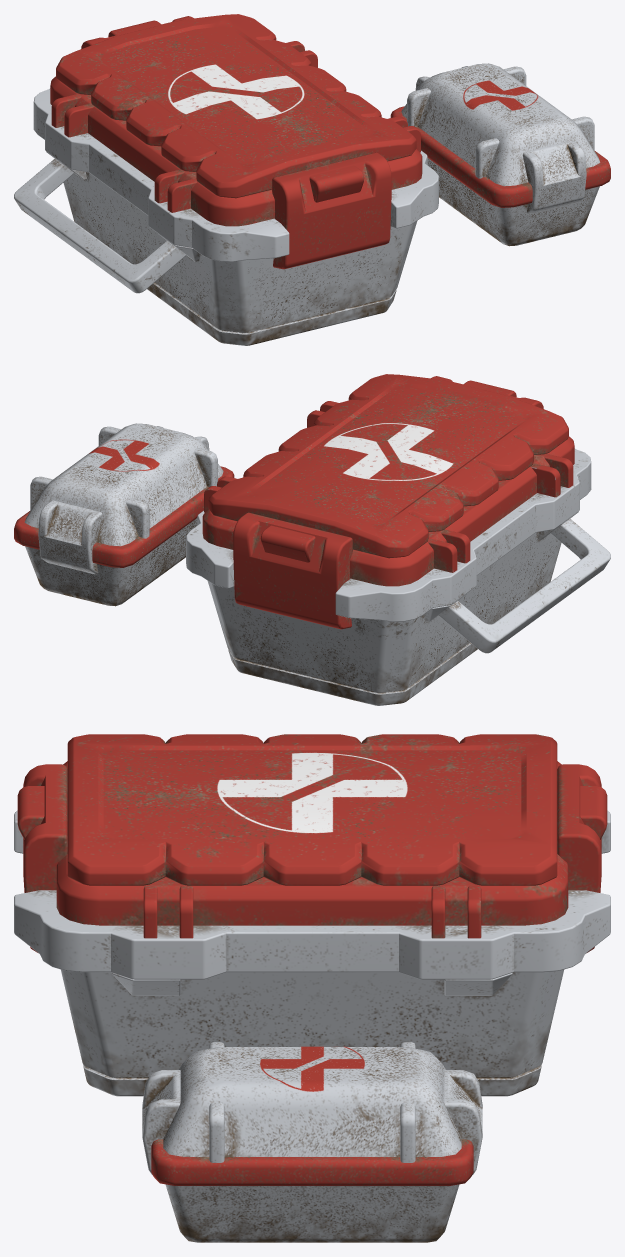
3 views of the same model, one above another, from view 1: azimuth 30°, elevation 25°; view 2: azimuth 150°, elevation 25°; view 3: azimuth 270°, elevation 25° (orthographic). The views are drawn at different scales.
Parts seen in each view (by area): view 1: Lid_Med_Kit, Base_Med_Kit, Main_Syringe, Decal_Med_Kit, Decal_Syringe; view 2: Lid_Med_Kit, Base_Med_Kit, Main_Syringe, Decal_Med_Kit, Decal_Syringe; view 3: Lid_Med_Kit, Base_Med_Kit, Main_Syringe, Decal_Med_Kit, Decal_Syringe.
Part boxes in pixels (x1=…): Lid_Med_Kit: x1=50, y1=14, x2=422, y2=269; Base_Med_Kit: x1=14, y1=88, x2=438, y2=345; Main_Syringe: x1=390, y1=63, x2=610, y2=246; Decal_Med_Kit: x1=168, y1=64, x2=304, y2=119; Decal_Syringe: x1=463, y1=80, x2=538, y2=110; Lid_Med_Kit: x1=202, y1=374, x2=574, y2=629; Base_Med_Kit: x1=186, y1=448, x2=610, y2=705; Main_Syringe: x1=14, y1=423, x2=234, y2=606; Decal_Med_Kit: x1=324, y1=423, x2=453, y2=480; Decal_Syringe: x1=89, y1=439, x2=159, y2=471; Lid_Med_Kit: x1=17, y1=734, x2=607, y2=952; Base_Med_Kit: x1=14, y1=810, x2=610, y2=1096; Main_Syringe: x1=142, y1=1042, x2=482, y2=1242; Decal_Med_Kit: x1=217, y1=752, x2=407, y2=833; Decal_Syringe: x1=260, y1=1046, x2=364, y2=1091.
Size of the model in its own units: 23.1 by 8.17 by 17.5.
Materials: 4 (4 with a texture image).
